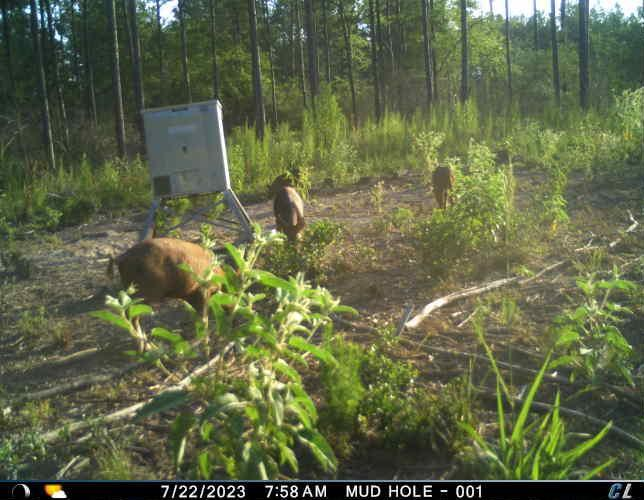Hog: (99, 237, 229, 355), (274, 185, 308, 248), (430, 163, 453, 209), (269, 169, 302, 193)
